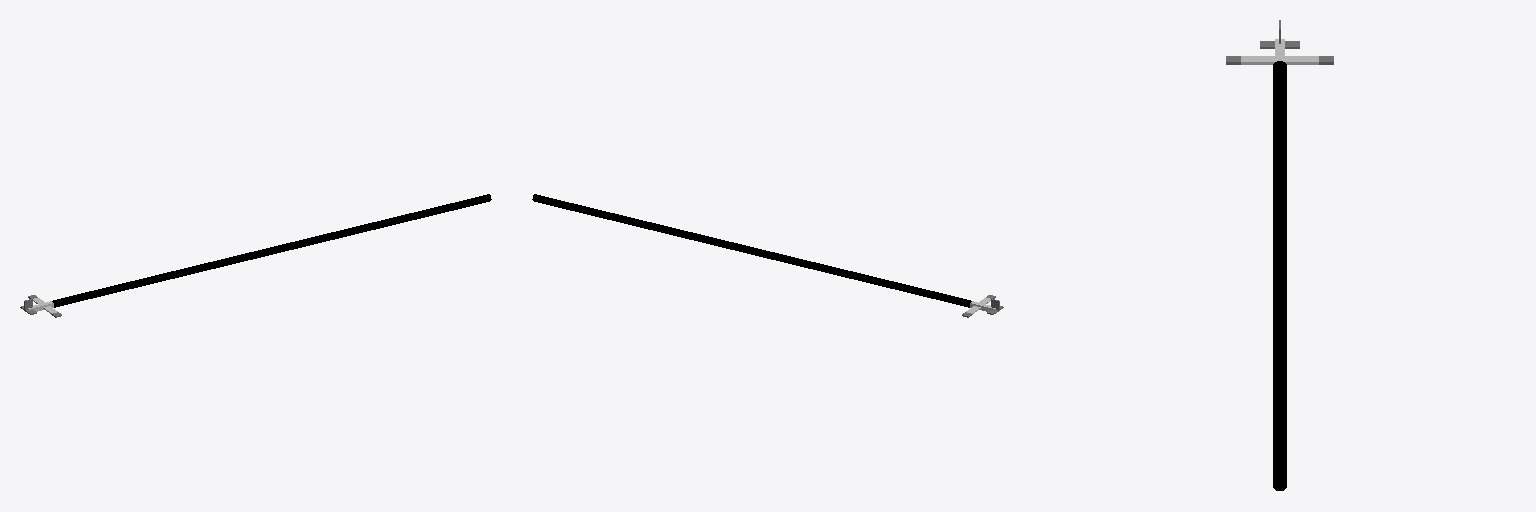
URDF robot description (acrowing):
<?xml version="1.0" ?>

<robot name="acrowing">

  <material name="clear">
    <color rgba="0.0 0.0 0.0 0.025"/>
  </material>
  <material name="grey">
    <color rgba="0.5 0.5 0.5 1.0"/>
  </material>
  <material name="white">
    <color rgba="0.8 0.8 0.8 1.0"/>
  </material>
  <material name="black">
    <color rgba="0.2 0.2 0.2 1.0"/>
  </material>

  <link name="base_link">
    <inertial>
      <origin rpy="0 0 0" xyz="0 0 0"/>
      <mass value="0.3"/>
      <inertia ixx="0" ixy="0" ixz="0" iyy="0" iyz="0" izz="0"/>
    </inertial>
  </link>


  <link name="motor_link">
    <inertial>
      <origin rpy="0 0 0" xyz="0 0 0"/>
      <mass value="0"/>
      <inertia ixx="0" ixy="0" ixz="0" iyy="0" iyz="0" izz="0"/>
    </inertial>
  </link>
  <joint name="motor_joint" type="fixed">
    <origin rpy="0 0 0" xyz="0 0 0"/>
    <parent link="base_link"/>
    <child link="motor_link"/>
  </joint>


  <link name="horizontal_tail_link">
    <inertial>
      <origin rpy="0 0 0" xyz="0 0 0"/>
      <mass value="0.1"/>
      <inertia ixx="0" ixy="0" ixz="0" iyy="0" iyz="0" izz="0"/>
    </inertial>
    <collision>
      <origin rpy="0 0 0" xyz="0 0 0"/>
      <geometry>
        <box size="0.3 0.8 0.05"/>
      </geometry>
    </collision>
    <visual>
      <geometry>
        <box size="0.3 0.8 0.05"/>
      </geometry>
      <material name="grey"/>
    </visual>
  </link>
  <joint name="horizontal_tail_joint" type="fixed">
    <origin rpy="0 0 0" xyz="-1.1 0 0"/>
    <parent link="base_link"/>
    <child link="horizontal_tail_link"/>
  </joint>


  <link name="vertical_tail_link">
    <inertial>
      <origin rpy="0 0 0" xyz="0 0 0"/>
      <mass value="0.05"/>
      <inertia ixx="0" ixy="0" ixz="0" iyy="0" iyz="0" izz="0"/>
    </inertial>
    <collision>
      <origin rpy="0 0 0" xyz="0 0 0"/>
      <geometry>
        <box size="0.4 0.05 0.5"/>
      </geometry>
    </collision>
    <visual>
      <geometry>
        <box size="0.4 0.05 0.4"/>
      </geometry>
      <material name="grey"/>
    </visual>
  </link>
  <joint name="vertical_tail_joint" type="fixed">
    <origin rpy="0 0 0" xyz="-1.1 0 0.25"/>
    <parent link="base_link"/>
    <child link="vertical_tail_link"/>
  </joint>


  <link name="ail_left_link">
    <inertial>
      <origin rpy="0 0 0" xyz="0 0 0"/>
      <mass value="0.2"/>
      <inertia ixx="0" ixy="0" ixz="0" iyy="0" iyz="0" izz="0"/>
    </inertial>
    <collision>
      <origin rpy="0 0 0" xyz="0 0 0"/>
      <geometry>
        <box size="0.31 0.3 0.06"/>
      </geometry>
    </collision>
    <visual>
      <geometry>
        <box size="0.31 0.3 0.06"/>
      </geometry>
      <material name="grey"/>
    </visual>
  </link>
  <joint name="ail_left_joint" type="fixed">
    <origin rpy="0 0 0" xyz="-0.35 0.95 0"/>
    <parent link="base_link"/>
    <child link="ail_left_link"/>
  </joint>


  <link name="ail_right_link">
    <inertial>
      <origin rpy="0 0 0" xyz="0 0 0"/>
      <mass value="0.2"/>
      <inertia ixx="0" ixy="0" ixz="0" iyy="0" iyz="0" izz="0"/>
    </inertial>
    <collision>
      <origin rpy="0 0 0" xyz="0 0 0"/>
      <geometry>
        <box size="0.31 0.3 0.06"/>
      </geometry>
    </collision>
    <visual>
      <geometry>
        <box size="0.31 0.3 0.06"/>
      </geometry>
      <material name="grey"/>
    </visual>
  </link>
  <joint name="ail_right_joint" type="fixed">
    <origin rpy="0 0 0" xyz="-0.35 -0.95  0"/>
    <parent link="base_link"/>
    <child link="ail_right_link"/>
  </joint>


  <link name="main_wing_link">
    <inertial>
      <origin rpy="0 0 0" xyz="0 0 0"/>
      <mass value="0.5"/>
      <inertia ixx="0" ixy="0" ixz="0" iyy="0" iyz="0" izz="0"/>
    </inertial>
    <collision>
      <origin rpy="0 0 0" xyz="0 0 0"/>
      <geometry>
        <box size="0.3 1.8 0.05"/>
      </geometry>
    </collision>
    <visual>
      <geometry>
        <box size="0.3 1.8 0.05"/>
      </geometry>
      <material name="white"/>
    </visual>
  </link>
  <joint name="main_wing_joint" type="fixed">
    <origin rpy="0 0 0" xyz="-0.35 0 0"/>
    <parent link="base_link"/>
    <child link="main_wing_link"/>
  </joint>


  <link name="fuselage_link">
    <inertial>
      <origin rpy="0 0 0" xyz="0 0 0"/>
      <mass value="1"/>
      <inertia ixx="0" ixy="0" ixz="0" iyy="0" iyz="0" izz="0"/>
    </inertial>
    <collision>
      <origin rpy="0 0 0" xyz="0 0 0"/>
      <geometry>
        <box size="1.4 0.2 0.2"/>
      </geometry>
    </collision>
    <visual>
      <geometry>
        <box size="1.4 0.2 0.2"/>
      </geometry>
      <material name="white"/>
    </visual>
  </link>
  <joint name="fuselage_joint" type="fixed">
    <origin rpy="0 0 0" xyz="-0.45 0 0"/>
    <parent link="base_link"/>
    <child link="fuselage_link"/>
  </joint>

  <link name="gunsight_link">
    <inertial>
      <origin rpy="0 0 0" xyz="0 0 0"/>
      <mass value="0"/>
      <inertia ixx="0" ixy="0" ixz="0" iyy="0" iyz="0" izz="0"/>
    </inertial>
    <visual>
      <geometry>
        <cylinder radius="0.15" length="20.0"/>
      </geometry>
      <material name="clear"/>
    </visual>
  </link>
  <joint name="gunsight_joint" type="fixed">
    <origin rpy="0 1.571 0" xyz="10.0 0 0"/>
    <parent link="base_link"/>
    <child link="gunsight_link"/>
  </joint>
</robot>

--- Facts derived from the render (not from the file) ---
3 views of the same robot in one strip: view 1: azimuth 30°, elevation 25°; view 2: azimuth 150°, elevation 25°; view 3: azimuth 270°, elevation 25° (orthographic).
Model acrowing with 9 links and 8 joints (8 fixed), rooted at base_link, posed all joints at 0.
Links seen in each view (by area): view 1: gunsight_link; view 2: gunsight_link; view 3: gunsight_link, main_wing_link.
Link boxes in pixels (x1,y1,x2,y2): gunsight_link: [52, 194, 491, 307]; gunsight_link: [532, 194, 971, 307]; gunsight_link: [1273, 61, 1286, 490]; main_wing_link: [1241, 56, 1318, 64].
Size in the robot's own frame: 21.3 by 2.2 by 0.602 metres.
Geometry: primitives only (box / cylinder / sphere), no mesh files.
